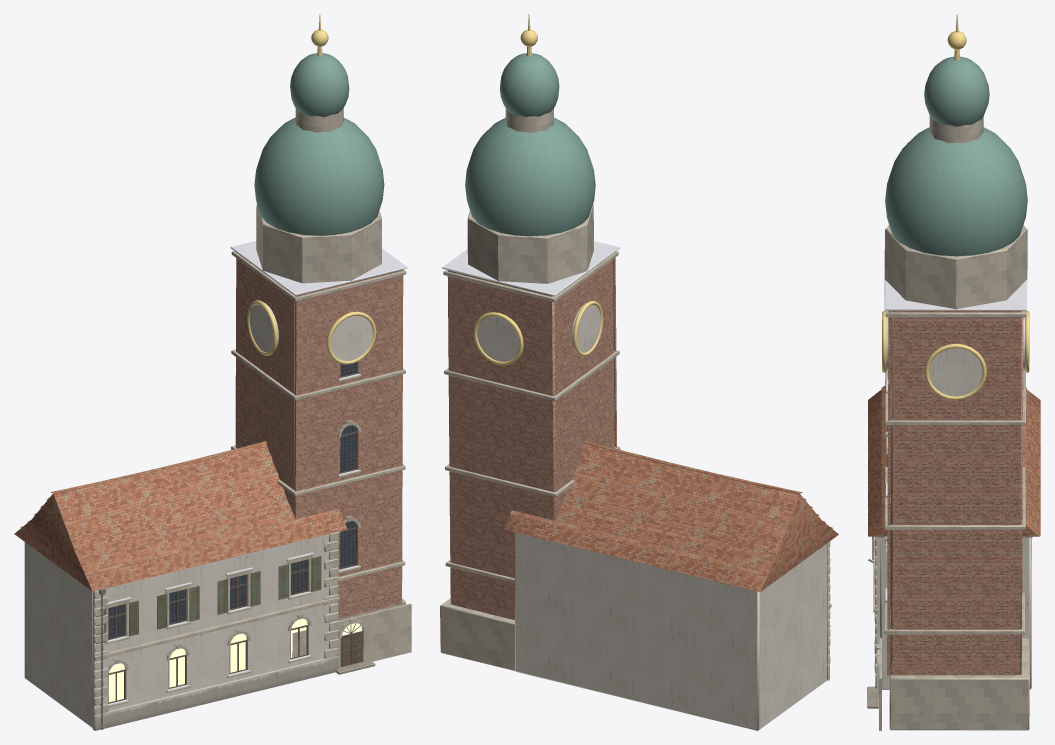
The model's file is town_hall.glb.
3 renders of one model, left to right at view 1: azimuth 30°, elevation 25°; view 2: azimuth 150°, elevation 25°; view 3: azimuth 270°, elevation 25°, orthographic. The views are drawn at different scales.
Visible parts, largest first — view 1: town_hall; view 2: town_hall; view 3: town_hall.
Boxes of the visible parts, left/top/right/bottom form: town_hall: left=14, top=14, right=411, bottom=730; town_hall: left=440, top=14, right=838, bottom=730; town_hall: left=867, top=14, right=1040, bottom=730.
Size of what is drawn, in the model's own units: 21.44 by 39.3 by 8.97.
Materials: 16 (15 with a texture image).
